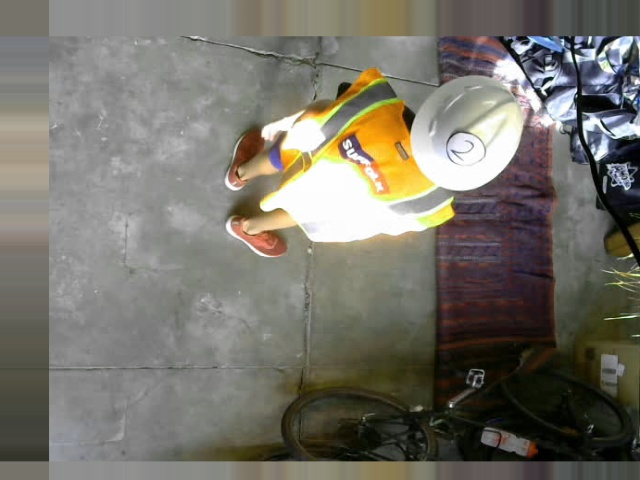two: (446, 131, 486, 166)
